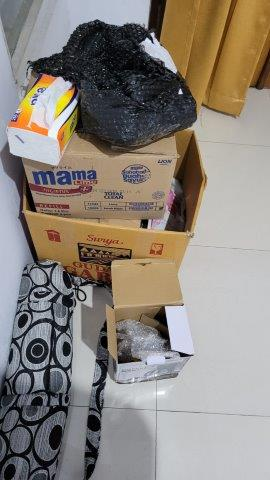kardus: (18, 127, 206, 285), (105, 256, 195, 381)
kertas: (138, 32, 178, 76)
